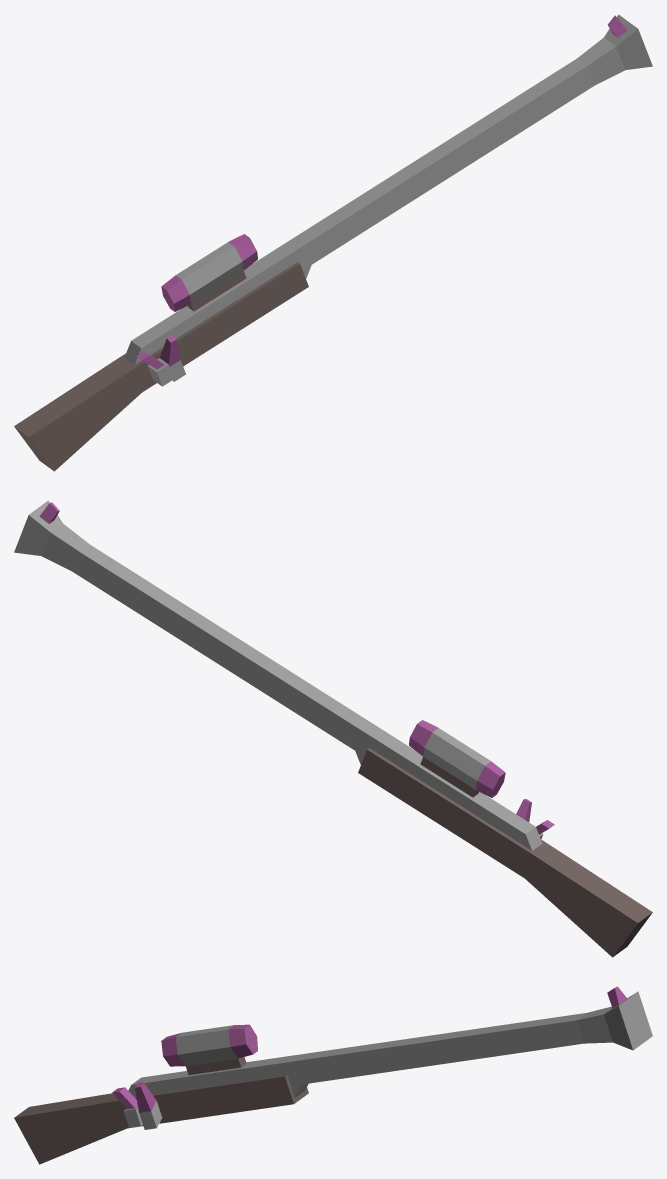
The model's file is RangedCrystal.fbx.
3 renders of one model, top to bottom at view 1: azimuth 30°, elevation 25°; view 2: azimuth 150°, elevation 25°; view 3: azimuth 330°, elevation 25°, orthographic.
Parts seen in each view (by area): view 1: Ranged Weapon Crystal; view 2: Ranged Weapon Crystal; view 3: Ranged Weapon Crystal.
Boxes of the visible parts, bbox=[...] form: Ranged Weapon Crystal: bbox=[14, 14, 652, 471]; Ranged Weapon Crystal: bbox=[14, 500, 652, 957]; Ranged Weapon Crystal: bbox=[14, 986, 652, 1164].
Size of the model in its own units: 896 by 428 by 69.69.
